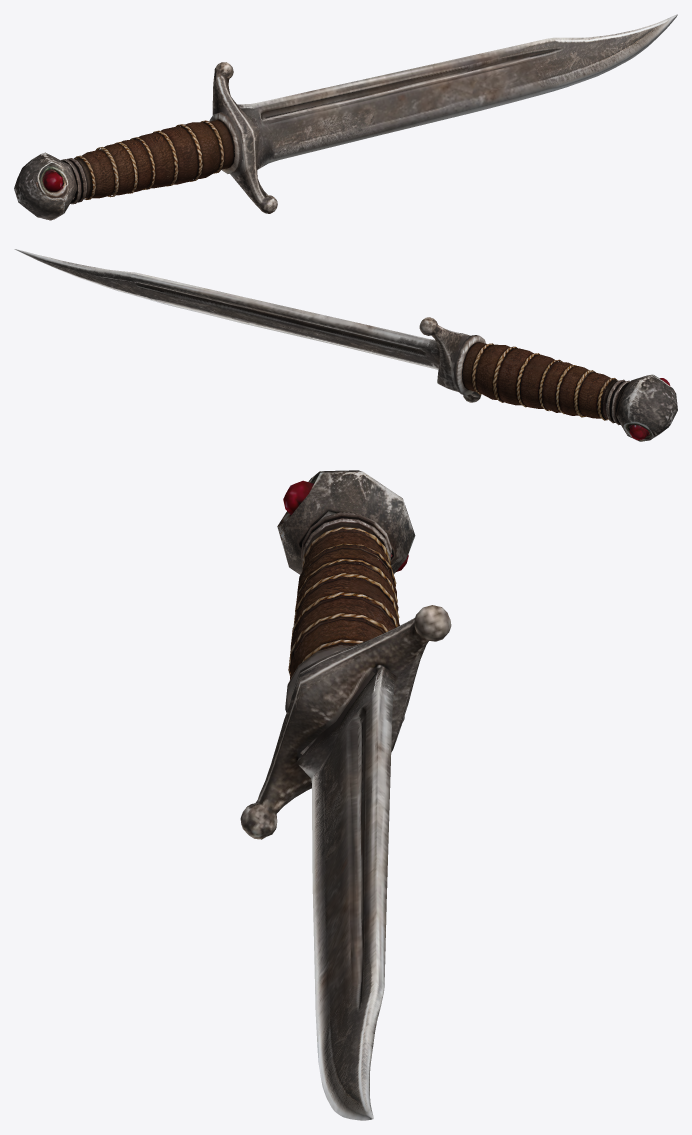
File: dagger_pbr.glb
The picture shows the model from 3 angles, top to bottom: view 1: azimuth 30°, elevation 25°; view 2: azimuth 150°, elevation 25°; view 3: azimuth 270°, elevation 25°; orthographic projection. The views are drawn at different scales.
Parts seen in each view (by area): view 1: tripo_node_916a93c2-21c9-4126-abc1-af334499cf54; view 2: tripo_node_916a93c2-21c9-4126-abc1-af334499cf54; view 3: tripo_node_916a93c2-21c9-4126-abc1-af334499cf54.
Part boxes in pixels (x1=…): tripo_node_916a93c2-21c9-4126-abc1-af334499cf54: x1=14, y1=14, x2=677, y2=220; tripo_node_916a93c2-21c9-4126-abc1-af334499cf54: x1=14, y1=249, x2=677, y2=441; tripo_node_916a93c2-21c9-4126-abc1-af334499cf54: x1=240, y1=470, x2=451, y2=1120.
Size of the model in its own units: 0.9995 by 0.1694 by 0.1401.
1 material, 1 textured.
